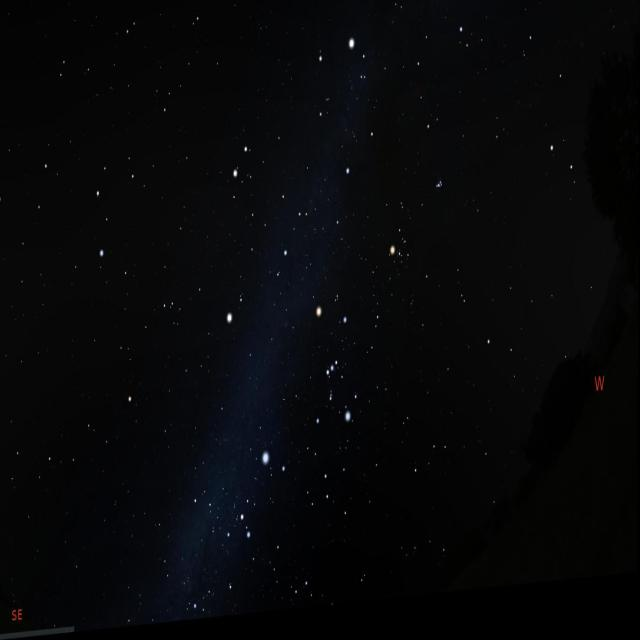canis_major: (238, 446, 294, 555)
canis_minor: (226, 299, 247, 336)
gemini: (228, 138, 308, 286)
leo: (0, 124, 141, 288)
orion: (302, 291, 362, 454)
pleiades: (432, 183, 447, 216)
taurus: (382, 163, 459, 304)
